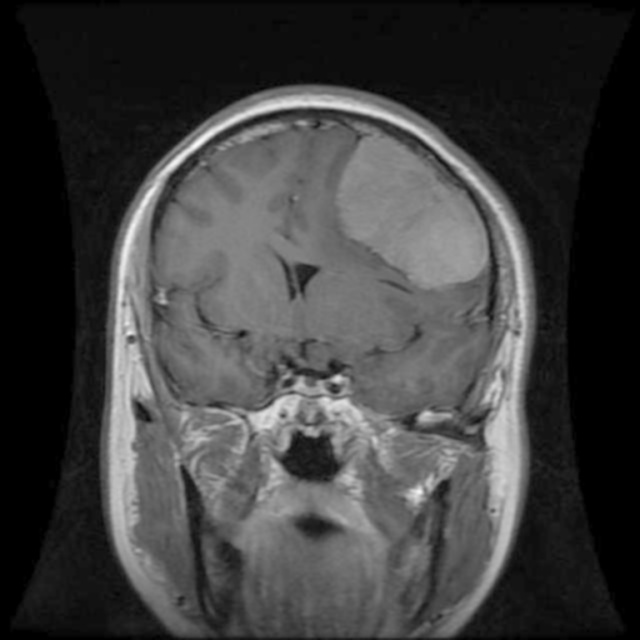meningioma tumor: (324, 138, 500, 294)
